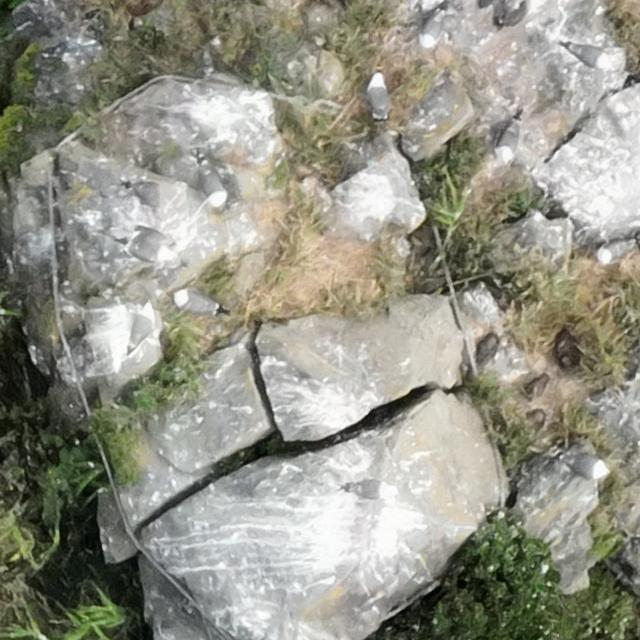umineko: (126, 227, 184, 263), (559, 40, 611, 69), (125, 302, 154, 352), (560, 451, 608, 480), (496, 116, 524, 164), (202, 160, 228, 207), (346, 480, 401, 500), (421, 8, 447, 47), (368, 79, 388, 116), (600, 238, 632, 260), (181, 294, 215, 312)
